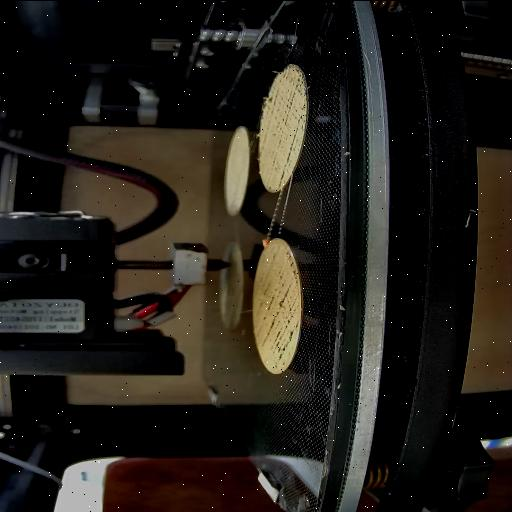under_extrusion: (266, 74, 304, 190), (263, 248, 297, 370)
